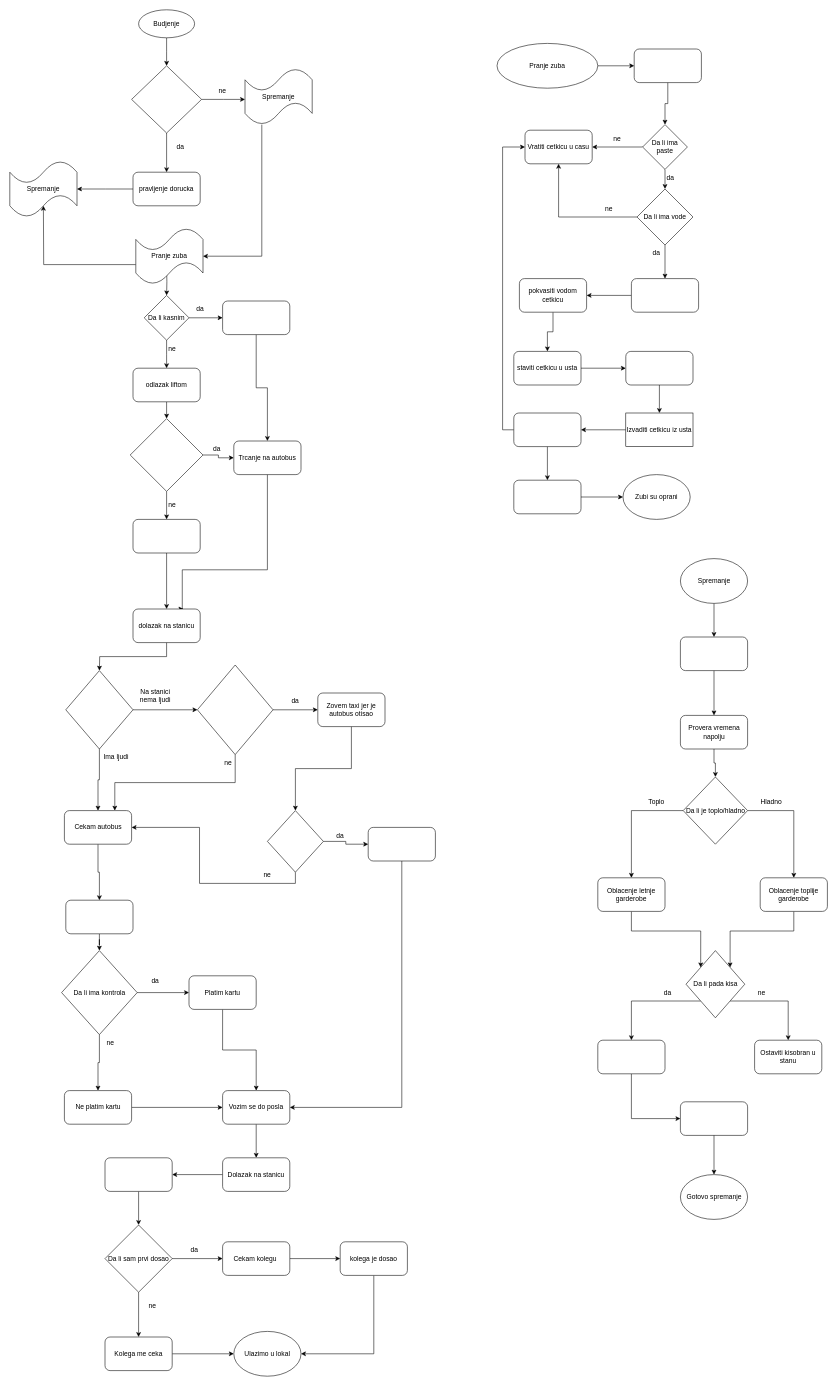
This 837x1386 diagram has some shape labels left out. The centre of each missing label's shape, as x and y in pixels:
"Cekam taxi" goes at point 401,844.
"Da li na stanici ima ljudi" goes at point 99,709.
"da li sam ustao na vreme" goes at point 166,99.
"da li se lift zadrzao negde" goes at point 166,454.
"Da li se taxi javlja" goes at point 295,841.
"Isprati usta vodom" goes at point 547,497.
"Ocistiti cetkicu" goes at point 547,429.
"Odlazak do lokala" goes at point 138,1174.
"Pakovanje torbe" goes at point 714,1118.
"Prati zube 1-2 minute" goes at point 659,368.
"Proverim da li imam dovoljno novca" goes at point 235,709.
"setnja do autobusa" goes at point 166,536.
"Spakovati kisobran u torbu" goes at point 631,1057.
"Staviti pastu na cetkicu" goes at point 665,295.
"Trcanje niz stepenice" goes at point 256,317.
"Ulazim u autobus" goes at point 99,917.
"Umivanje hladnom vodom" goes at point 714,653.
"uzeti cetkicu iz case" goes at point 667,65.
